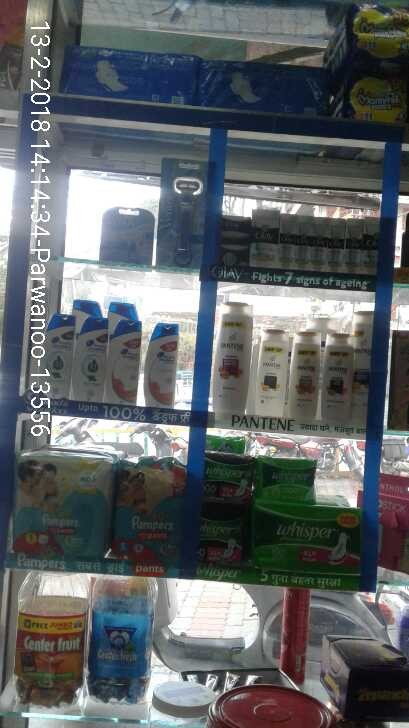venus: (156, 161, 208, 265), (100, 209, 147, 260)
